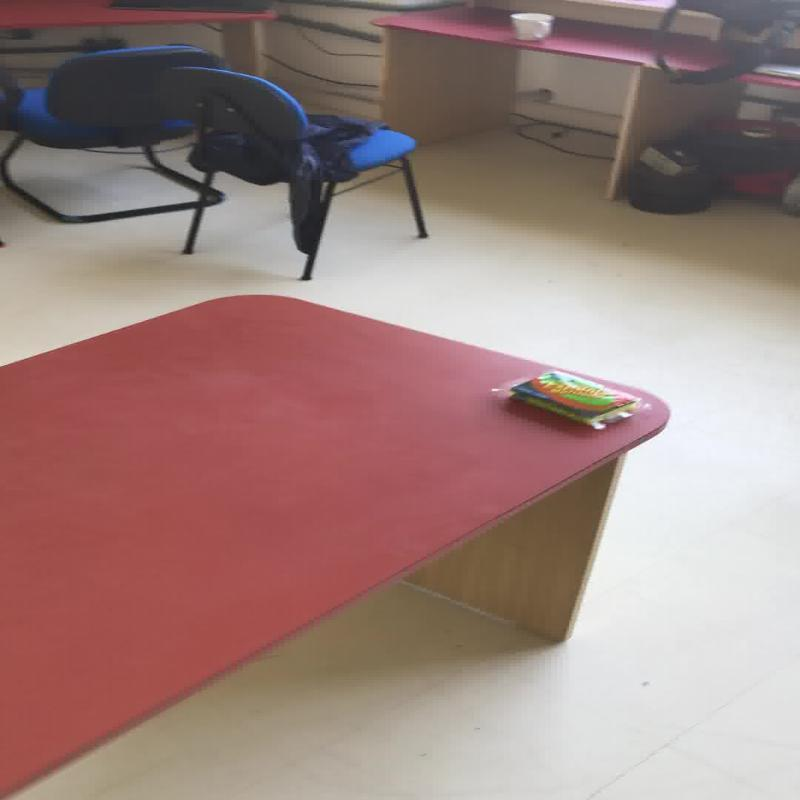sponge: (505, 370, 642, 430)
